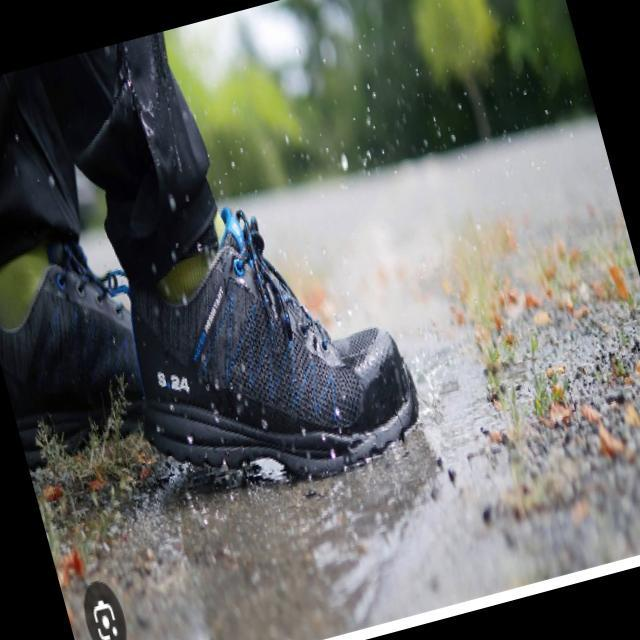shoes: (0, 99, 437, 562)
